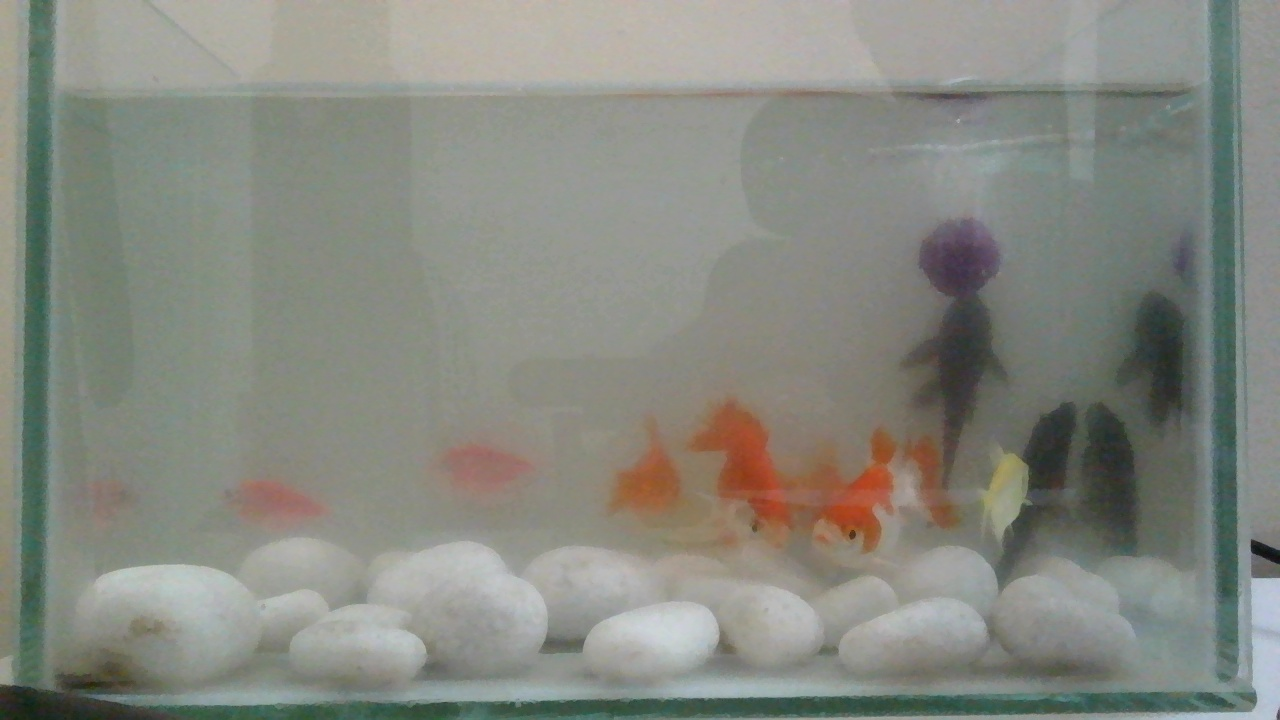fish: (976, 436, 1038, 584), (430, 436, 542, 508), (221, 476, 325, 538)
